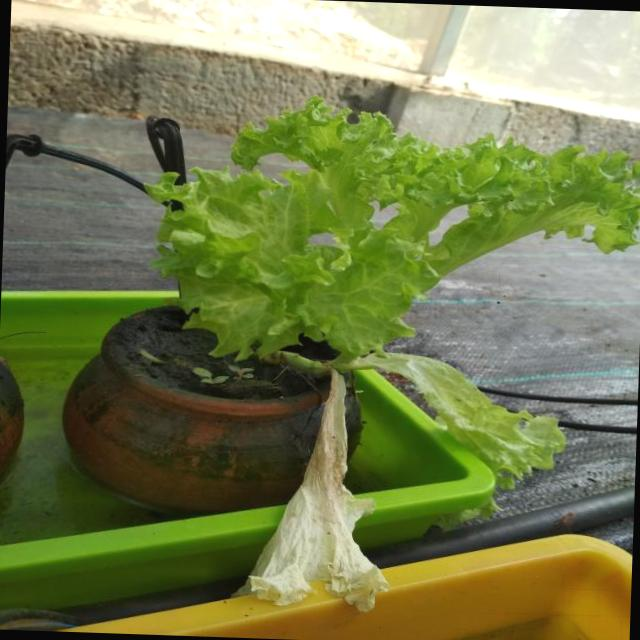Lettuce-Not-Ready-to-Harvest: (136, 98, 640, 492)
